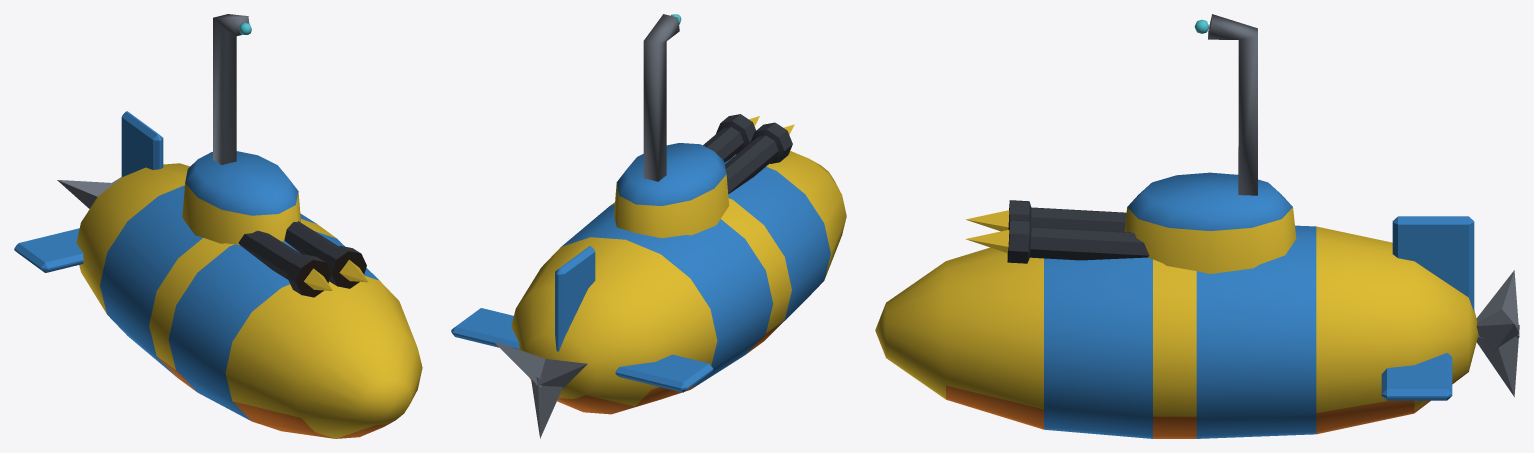
3 views of the same model, side by side, from view 1: azimuth 30°, elevation 25°; view 2: azimuth 150°, elevation 25°; view 3: azimuth 270°, elevation 25° (orthographic). The views are drawn at different scales.
Visible parts, largest first — view 1: submarino_0_base, submarino_1_torreta; view 2: submarino_0_base, submarino_1_torreta; view 3: submarino_0_base, submarino_1_torreta.
Boxes of the visible parts, x1=… form: submarino_0_base: x1=14, y1=111, x2=422, y2=438; submarino_1_torreta: x1=182, y1=14, x2=368, y2=297; submarino_0_base: x1=451, y1=151, x2=846, y2=438; submarino_1_torreta: x1=614, y1=14, x2=794, y2=238; submarino_0_base: x1=875, y1=216, x2=1519, y2=438; submarino_1_torreta: x1=965, y1=14, x2=1296, y2=273.
Size of the model in its own units: 0.58 by 0.8253 by 1.18.
